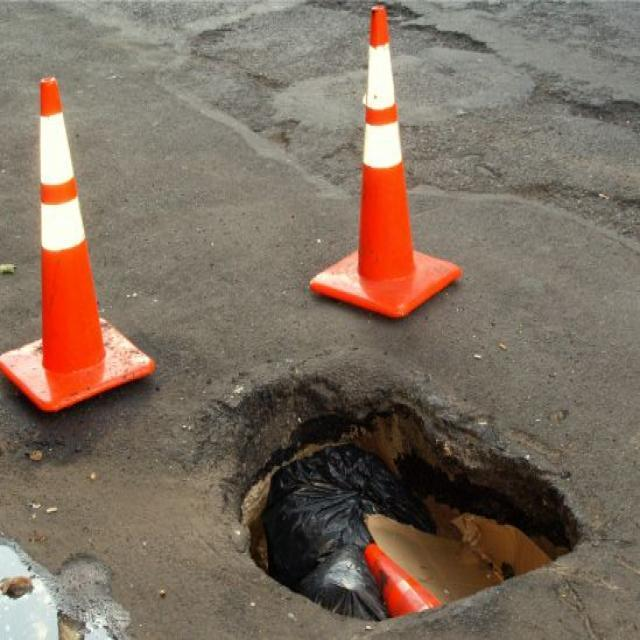Pothole: (198, 361, 590, 624)
